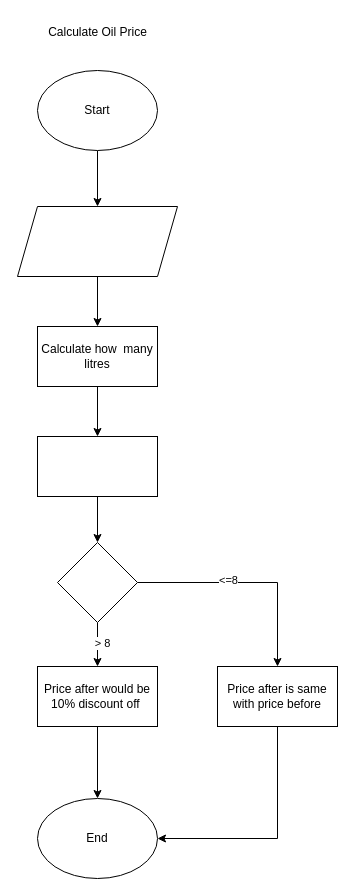
This 355x896 diagram has some shape labels left out. Here are the shapes that lost their labels. From the top down, the centre of each, then its label:
At point 97,241: "Enter # of cases of Oil".
At point 97,466: "Count the price before discount".
At point 97,582: "Cases > 8?".
